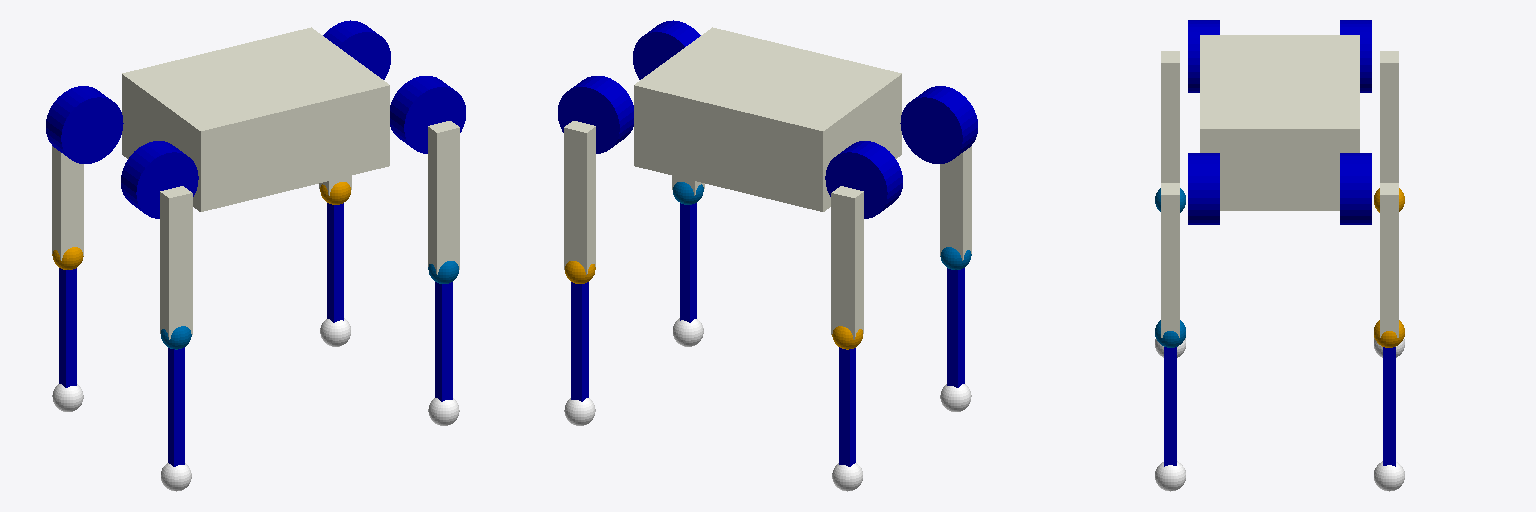
--- What the picture shows (computed from the rendered views, not written in the file) ---
The picture shows the robot from 3 angles, left to right: view 1: azimuth 30°, elevation 25°; view 2: azimuth 150°, elevation 25°; view 3: azimuth 270°, elevation 25°; orthographic projection.
Robot: wr2 — 19 links, 18 joints (12 revolute, 6 fixed); root link base; default pose: every joint at zero.
Visible links, largest first — view 1: trunk, RR_thigh, FR_thigh, RL_hip, RR_hip, FR_hip, RL_thigh, FL_hip, RL_calf, FR_calf, FL_calf, RR_calf (+5 smaller); view 2: trunk, RL_thigh, FL_thigh, RR_hip, RL_hip, FL_hip, RR_thigh, FR_hip, RR_calf, FL_calf, FR_calf, RL_calf (+5 smaller); view 3: trunk, FR_thigh, FL_thigh, RR_thigh, RL_thigh, FR_hip, FL_hip, FR_calf, FL_calf, RR_hip, RL_hip, FR_foot (+1 smaller).
Boxes of the visible links, x1,y1,x2,y2 form: trunk: [122, 27, 389, 211]; RR_thigh: [160, 186, 192, 349]; FR_thigh: [428, 121, 459, 283]; RL_hip: [46, 86, 123, 163]; RR_hip: [121, 141, 198, 218]; FR_hip: [390, 76, 465, 153]; RL_thigh: [52, 146, 83, 269]; FL_hip: [323, 20, 390, 79]; RL_calf: [59, 268, 76, 387]; FR_calf: [435, 282, 452, 401]; FL_calf: [327, 203, 343, 322]; RR_calf: [168, 347, 184, 466]; trunk: [634, 27, 901, 211]; RL_thigh: [831, 186, 863, 349]; FL_thigh: [564, 121, 595, 283]; RR_hip: [900, 86, 977, 163]; RL_hip: [825, 141, 902, 218]; FL_hip: [558, 76, 633, 153]; RR_thigh: [940, 146, 971, 269]; FR_hip: [633, 20, 700, 79]; RR_calf: [947, 268, 964, 387]; FL_calf: [571, 282, 588, 401]; FR_calf: [680, 203, 696, 322]; RL_calf: [839, 347, 855, 466]; trunk: [1200, 35, 1359, 210]; FR_thigh: [1155, 183, 1185, 347]; FL_thigh: [1374, 183, 1404, 347]; RR_thigh: [1155, 51, 1185, 212]; RL_thigh: [1374, 51, 1404, 212]; FR_hip: [1188, 153, 1219, 224]; FL_hip: [1340, 153, 1371, 224]; FR_calf: [1164, 347, 1176, 466]; FL_calf: [1383, 347, 1395, 466]; RR_hip: [1188, 20, 1219, 92]; RL_hip: [1340, 20, 1371, 92]; FR_foot: [1155, 461, 1185, 491].
Size in the robot's own frame: 0.487 by 0.3164 by 0.477 metres.
Geometry: primitives only (box / cylinder / sphere), no mesh files.

robot.urdf — wr2:
<?xml version="1.0" encoding="utf-8"?>
<!-- =================================================================================== -->
<!-- |    This document was autogenerated by xacro from xacro/robot.xacro              | -->
<!-- |    EDITING THIS FILE BY HAND IS NOT RECOMMENDED                                 | -->
<!-- =================================================================================== -->
<robot name="wr2">
  <material name="black">
    <color rgba="0.0 0.0 0.0 1.0"/>
  </material>
  <material name="blue">
    <color rgba="0.0 0.0 0.8 1.0"/>
  </material>
  <material name="green">
    <color rgba="0.0 0.8 0.0 1.0"/>
  </material>
  <material name="grey">
    <color rgba="0.2 0.2 0.2 1.0"/>
  </material>
  <material name="silver">
    <color rgba="0.913725490196 0.913725490196 0.847058823529 1.0"/>
  </material>
  <material name="orange">
    <color rgba="1.0 0.423529411765 0.0392156862745 1.0"/>
  </material>
  <material name="brown">
    <color rgba="0.870588235294 0.811764705882 0.764705882353 1.0"/>
  </material>
  <material name="red">
    <color rgba="0.8 0.0 0.0 1.0"/>
  </material>
  <material name="white">
    <color rgba="1.0 1.0 1.0 1.0"/>
  </material>
 
  <link name="base">
    <visual>
      <origin rpy="0 0 0" xyz="0 0 0"/>
      <geometry>
        <box size="0.001 0.001 0.001"/>
      </geometry>
    </visual>
  </link>
  <joint name="floating_base" type="fixed">
    <origin rpy="0 0 0" xyz="0 0 0"/>
    <parent link="base"/>
    <child link="trunk"/>
  </joint>
  <link name="trunk">
    <visual name="body_visual">
      <origin rpy="0 0 0" xyz="0 0 0"/>
      <geometry>
        <!-- <mesh filename="meshes/base_link.STL" scale="1 1 1"/> -->
        <box size="0.28 0.202 0.114"/>
      </geometry>
      <material name="silver"/>
    </visual>
    <collision name="body_collision">
      <origin rpy="0 0 0" xyz="0 0 0"/>
      <geometry>
        <!-- <mesh filename="meshes/base_link.STL" scale="1 1 1"/> -->
        <box size="0.28 0.202 0.114"/>
      </geometry>
    </collision>
    <inertial>
      <origin rpy="0 0 0" xyz="0.00067578 -0.00016652 -0.00017278"/>
      <mass value="4.9532"/>
      <inertia ixx="0.0097737" ixy="1.6081e-06" ixz="6.1042e-06" iyy="0.011213" iyz="2.3576e-05" izz="0.016784"/>
    </inertial>
  </link>
 
  <!-- <link name="base">
    <visual>
      <origin rpy="0 0 0" xyz="0 0 0"/>
      <geometry>
        <box size="0.001 0.001 0.001"/>
      </geometry>
    </visual>
    <inertial>
      <origin rpy="0 0 0" xyz="0.00067578 -0.00016652 -0.00017278"/>
      <mass value="4.9532"/>
      <inertia ixx="0.0097737" ixy="1.6081e-06" ixz="6.1042e-06" iyy="0.011213" iyz="2.3576e-05" izz="0.016784"/>
    </inertial>
  </link>
  <joint name="floating_base" type="fixed">
    <origin rpy="0 0 0" xyz="0 0 0"/>
    <parent link="base"/>
    <child link="trunk"/>
  </joint>
  <link name="trunk">
    <visual name="body_visual">
      <origin rpy="0 0 0" xyz="0 0 0"/>
      <geometry>
        <mesh filename="meshes/base_link.STL" scale="1 1 1"/>
      </geometry>
      <material name="silver"/>
      <origin rpy="0 0 0" xyz="0 0 0"/>
      <geometry>
        <box size="0.28 0.202 0.114"/>
      </geometry>
    </visual>
    <collision name="body_collision">
      <origin rpy="0 0 0" xyz="0 0 0"/>
      <geometry>
        <box size="0.28 0.202 0.114"/>
      </geometry>
    </collision>
  </link> -->
  <joint name="imu_joint" type="fixed">
    <parent link="trunk"/>
    <child link="imu_link"/>
    <origin rpy="0 0 0" xyz="0 0 0"/>
  </joint>
  <link name="imu_link">
    <inertial>
      <mass value="0.001"/>
      <origin rpy="0 0 0" xyz="0 0 0"/>
      <inertia ixx="0.0001" ixy="0" ixz="0" iyy="0.0001" iyz="0" izz="0.0001"/>
    </inertial>
    <visual>
      <origin rpy="0 0 0" xyz="0 0 0"/>
      <geometry>
        <box size="0.001 0.001 0.001"/>
      </geometry>
      <material name="red"/>
    </visual>
    <collision>
      <origin rpy="0 0 0" xyz="0 0 0"/>
      <geometry>
        <box size=".001 .001 .001"/>
      </geometry>
    </collision>
  </link>

  <joint name="FR_hip_joint" type="revolute">
    <origin rpy="0 0 0" xyz="0.1975 -0.05 0"/>
    <parent link="trunk"/>
    <child link="FR_hip"/>
    <axis xyz="1 0 0"/>
    <dynamics damping="0" friction="0"/>
    <limit effort="33.5" lower="-0.785398163397" upper="0.785398163397" velocity="21"/>
  </joint>
  <!-- <link name="FR_hip">
      <inertial>
          <mass value="0.54"/>
          <origin xyz="0.0 0.036 0."/>
          <inertia ixx="0.000381" ixy="0.000058" ixz="0.00000045" 
              iyy="0.000560" iyz="0.00000095" izz="0.000444"/>
      </inertial>
      <visual>
          <geometry>
              <mesh filename="meshes/mini_abad.obj"/>
          </geometry>
          <origin rpy="3.141592 0.0 1.5708" xyz="-0.055 0.0 0.0"/>
      </visual>
      <collision>
          <geometry>
              <mesh filename="meshes/mini_abad.obj"/>
          </geometry>
          <origin rpy="3.141592 0 1.5708" xyz="-0.055 0 0"/>
      </collision>
  </link> -->

  <!-- <link name="FR_hip">
    <visual>
      <origin rpy="1.57079632679 0 0" xyz="0 -0.045 0"/>
      <geometry>
        <cylinder length="0.04" radius="0.046"/>
      </geometry>
      <material name="silver"/>
    </visual>
    <collision>
      <origin rpy="1.57079632679 0 0" xyz="0 -0.045 0"/>
      <geometry>
        <cylinder length="0.04" radius="0.046"/>
      </geometry>
    </collision>
    <inertial>
      <origin rpy="0 0 0" xyz="-0.00541 0.00074 6e-06"/>
      <mass value="0.510299"/>
      <inertia ixx="0.00030528937" ixy="7.788013e-06" ixz="2.2016e-07" iyy="0.000590894859" iyz="1.7175e-08" izz="0.000396594572"/>
    </inertial>
  </link> -->

  <link name="FR_hip">
    <visual name="hip2_visual">
      <!-- <origin rpy="3.14159265359 0 0" xyz="0 0 0"/>
      <geometry>
        <mesh filename="meshes/hip1_Link.STL" scale="1 1 1"/>
      </geometry> -->
      <origin rpy="1.57079632679 0 0" xyz="0 -0.046 0"/>
      <geometry>
        <cylinder length="0.04" radius="0.046"/>
      </geometry>
      <material name="blue"/>
    </visual>
    <collision name="hip2_collision">
      <origin rpy="1.57079632679 0 0" xyz="0 -0.046 0"/>
      <geometry>
        <cylinder length="0.04" radius="0.046"/>
      </geometry>
    </collision>
    <inertial>
      <mass value="0.54"/>
      <origin xyz="0.0 0.036 0."/>
      <inertia ixx="0.000381" ixy="0.000058" ixz="0.00000045" 
          iyy="0.000560" iyz="0.00000095" izz="0.000444"/>
      <origin rpy="0 0 0" xyz="-0.0032616 -0.0049715 0.00038471"/>
      <mass value="0.74362"/>
      <inertia ixx="0.00045939" ixy="1.5543e-05" ixz="6.1403e-07" iyy="0.00075207" iyz="-8.2076e-07" izz="0.00049182"/>
    </inertial>
  </link>
  <joint name="FR_thigh_joint" type="revolute">
    <origin rpy="0 0 0" xyz="0 -0.0882 0"/>
    <parent link="FR_hip"/>
    <child link="FR_thigh"/>
    <axis xyz="0 -1 0"/>
    <dynamics damping="0" friction="0"/>
    <limit effort="33.5" lower="-6.28318530718" upper="6.28318530718" velocity="21"/>
  </joint>
  <link name="FR_thigh">
    <visual name="upper2_visual">
      <!-- <origin rpy="0 0 0" xyz="0 0 0"/>
      <geometry>
        <mesh filename="meshes/upper0_Link.STL" scale="1 1 1"/>
      </geometry> -->
      <origin rpy="0 1.57079632679 0" xyz="0 0 -0.1"/>
      <geometry>
        <box size="0.2 0.0245 0.034"/>
      </geometry>
      <material name="silver"/>
    </visual>
    <collision name="upper2_collision">
      <origin rpy="0 1.57079632679 0" xyz="0 0 -0.1"/>
      <geometry>
        <box size="0.2 0.0245 0.034"/>
      </geometry>
    </collision>
    <visual>
        <origin xyz="0 0 -0.2"/>
        <geometry>
            <sphere radius="0.02"/>
        </geometry>
    </visual>
    <collision>
        <origin xyz="0 0 -0.2"/>
        <geometry>
            <sphere radius="0.02"/>
        </geometry>
    </collision>
    <inertial>
      <origin rpy="0 0 0" xyz="-0.0029302 0.022321 -0.020612"/>
      <mass value="0.88958"/>
      <inertia ixx="0.0016427" ixy="-1.0138e-06" ixz="-8.5809e-05" iyy="0.0019549" iyz="-1.1651e-06" izz="0.00049228"/>
    </inertial>
  </link>
  <joint name="FR_calf_joint" type="revolute">
    <origin rpy="0 0 0" xyz="0 0 -0.2"/>
    <parent link="FR_thigh"/>
    <child link="FR_calf"/>
    <axis xyz="0 -1 0"/>
    <dynamics damping="0" friction="0"/>
    <limit effort="33.5" lower="-6.28318530718" upper="6.28318530718" velocity="21"/>
  </joint>
  <link name="FR_calf">
    <visual name="lower2_visual">
      <!-- <origin rpy="0 0 0" xyz="0 0 0"/>
      <geometry>
        <mesh filename="meshes/lower1_Link.STL" scale="1 1 1"/>
      </geometry> -->
      <origin rpy="0 1.57079632679 0" xyz="0 0 -0.1"/>
      <geometry>
        <box size="0.2 0.016 0.016"/>
      </geometry>
      <material name="blue"/>
    </visual>
    <collision name="lower2_collision">
      <origin rpy="0 1.57079632679 0" xyz="0 0 -0.1"/>
      <geometry>
        <box size="0.2 0.016 0.016"/>
      </geometry>
    </collision>
    <!-- <visual>
        <origin xyz="0 0 -0.2"/>
        <geometry>
            <sphere radius="0.02"/>
        </geometry>
    </visual>
    <collision>
        <origin xyz="0 0 -0.2"/>
        <geometry>
            <sphere radius="0.02"/>
        </geometry>
    </collision> -->
    <inertial>
      <origin rpy="0 0 0" xyz="0.0065828 -3.477e-05 -0.059038"/>
      <mass value="0.1193"/>
      <inertia ixx="0.00033774" ixy="-1.6102e-10" ixz="4.2063e-05" iyy="0.00034623" iyz="-3.8747e-09" izz="1.4561e-05"/>
    </inertial>
  </link>

  <joint name="FR_foot_fixed" type="fixed" dont_collapse="true">
    <origin rpy="0 0 0" xyz="0 0 -0.2"/>
    <parent link="FR_calf"/>
    <child link="FR_foot"/>
  </joint>
  <link name="FR_foot">
    <visual>
      <origin rpy="0 0 0" xyz="0 0 0"/>
      <geometry>
        <sphere radius="0.02"/>
      </geometry>
      <material name="white"/>
    </visual>
    <collision>
      <origin rpy="0 0 0" xyz="0 0 0"/>
      <geometry>
        <sphere radius="0.02"/>
      </geometry>
    </collision>
    <inertial>
      <mass value="0.06"/>
      <inertia ixx="9.6e-06" ixy="0.0" ixz="0.0" iyy="9.6e-06" iyz="0.0" izz="9.6e-06"/>
    </inertial>
  </link>


  <joint name="FL_hip_joint" type="revolute">
    <origin rpy="0 0 0" xyz="0.1975 0.05 0"/>
    <parent link="trunk"/>
    <child link="FL_hip"/>
    <axis xyz="1 0 0"/>
    <dynamics damping="0" friction="0"/>
    <limit effort="33.5" lower="-0.785398163397" upper="0.785398163397" velocity="21"/>
  </joint>
  <!-- <link name="FL_hip">
      <inertial>
          <mass value="0.54"/>
          <origin xyz="0.0 0.036 0."/>
          <inertia ixx="0.000381" ixy="0.000058" ixz="0.00000045" 
              iyy="0.000560" iyz="0.00000095" izz="0.000444"/>
      </inertial>
      <visual>
          <geometry>
              <mesh filename="meshes/mini_abad.obj"/>
          </geometry>
          <origin rpy="0. 0. -1.5708" xyz="-0.055 0.0 0.0"/>
      </visual>
      <collision>
          <geometry>
              <mesh filename="meshes/mini_abad.obj"/>
          </geometry>
          <origin rpy="0 0 -1.5708" xyz="-0.055 0 0"/>
      </collision>
  </link> -->
  <link name="FL_hip">
    <visual name="hip0_visual">
      <!-- <origin rpy="0 0 0" xyz="0 0 0"/>
      <geometry>
        <mesh filename="meshes/hip1_Link.STL" scale="1 1 1"/>
      </geometry> -->
      <origin rpy="1.57079632679 0 0" xyz="0 0.046 0"/>
      <geometry>
        <cylinder length="0.04" radius="0.046"/>
      </geometry>
      <material name="blue"/>
    </visual>
    <collision name="hip0_collision">
      <origin rpy="1.57079632679 0 0" xyz="0 0.046 0"/>
      <geometry>
        <cylinder length="0.04" radius="0.046"/>
      </geometry>
    </collision>
    <inertial>
      <origin rpy="0 0 0" xyz="-0.0032616 0.0049715 0.00038471"/>
      <mass value="0.74362"/>
      <inertia ixx="0.00045939" ixy="-1.5543e-05" ixz="6.1403e-07" iyy="0.00075207" iyz="8.2076e-07" izz="0.00049182"/>
    </inertial>
  </link>

  <!-- <link name="FL_hip">
    <visual>
      <origin rpy="1.57079632679 0 0" xyz="0 0.045 0"/>
      <geometry>
        <cylinder length="0.04" radius="0.046"/>
      </geometry>
      <material name="silver"/>
    </visual>
    <collision>
      <origin rpy="1.57079632679 0 0" xyz="0 0.046 0"/>
      <geometry>
        <cylinder length="0.04" radius="0.046"/>
      </geometry>
    </collision>
    <inertial>
      <origin rpy="0 0 0" xyz="-0.00541 -0.00074 6e-06"/>
      <mass value="0.510299"/>
      <inertia ixx="0.00030528937" ixy="-7.788013e-06" ixz="2.2016e-07" iyy="0.000590894859" iyz="-1.7175e-08" izz="0.000396594572"/>
    </inertial>
  </link> -->

  <joint name="FL_thigh_joint" type="revolute">
    <origin rpy="0 0 0" xyz="0 0.0882 0"/>
    <parent link="FL_hip"/>
    <child link="FL_thigh"/>
    <axis xyz="0 -1 0"/>
    <dynamics damping="0" friction="0"/>
    <limit effort="33.5" lower="-6.28318530718" upper="6.28318530718" velocity="21"/>
  </joint>
  <link name="FL_thigh">
    <visual name="upper0_visual">
      <!-- <origin rpy="0 0 0" xyz="0 0 0"/>
      <geometry>
        <mesh filename="meshes/upper1_Link.STL" scale="1 1 1"/>
      </geometry> -->
      <origin rpy="0 1.57079632679 0" xyz="0 0 -0.1"/>
      <geometry>
        <box size="0.2 0.0245 0.034"/>
      </geometry>
      <material name="silver"/>
    </visual>
    <collision name="upper0_collision">
      <origin rpy="0 1.57079632679 0" xyz="0 0 -0.1"/>
      <geometry>
        <box size="0.2 0.0245 0.034"/>
      </geometry>
    </collision>
    <visual>
        <origin xyz="0 0 -0.2"/>
        <geometry>
            <sphere radius="0.02"/>
        </geometry>
    </visual>
    <collision>
        <origin xyz="0 0 -0.2"/>
        <geometry>
            <sphere radius="0.02"/>
        </geometry>
    </collision>
    <inertial>
      <origin rpy="0 0 0" xyz="-0.0029302 -0.022321 -0.020612"/>
      <mass value="0.88958"/>
      <inertia ixx="0.0016427" ixy="1.0138e-06" ixz="-8.5809e-05" iyy="0.0019549" iyz="1.1651e-06" izz="0.00049228"/>
    </inertial>
  </link>
  <joint name="FL_calf_joint" type="revolute">
    <origin rpy="0 0 0" xyz="0 0 -0.2"/>
    <parent link="FL_thigh"/>
    <child link="FL_calf"/>
    <axis xyz="0 -1 0"/>
    <dynamics damping="0" friction="0"/>
    <limit effort="33.5" lower="-6.28318530718" upper="6.28318530718" velocity="21"/>
  </joint>
  <link name="FL_calf">
    <visual name="lower0_visual">
      <!-- <origin rpy="0 0 0" xyz="0 0 0"/>
      <geometry>
        <mesh filename="meshes/lower1_Link.STL" scale="1 1 1"/>
      </geometry> -->
      <origin rpy="0 1.57079632679 0" xyz="0 0 -0.1"/>
      <geometry>
        <box size="0.2 0.016 0.016"/>
      </geometry>
      <material name="blue"/>
    </visual>
    <collision name="lower0_collision">
      <origin rpy="0 1.57079632679 0" xyz="0 0 -0.1"/>
      <geometry>
        <box size="0.2 0.016 0.016"/>
      </geometry>
    </collision>
    <!-- <visual>
        <origin xyz="0 0 -0.2"/>
        <geometry>
            <sphere radius="0.02"/>
        </geometry>
    </visual>
    <collision>
        <origin xyz="0 0 -0.2"/>
        <geometry>
            <sphere radius="0.02"/>
        </geometry>
    </collision> -->
    <inertial>
      <origin rpy="0 0 0" xyz="0.0065828 -3.477e-05 -0.059038"/>
      <mass value="0.1193"/>
      <inertia ixx="0.00033774" ixy="-1.6102e-10" ixz="4.2063e-05" iyy="0.00034623" iyz="-3.8747e-09" izz="1.4561e-05"/>
    </inertial>
  </link>
  <joint name="FL_foot_fixed" type="fixed" dont_collapse="true">
    <origin rpy="0 0 0" xyz="0 0 -0.2"/>
    <parent link="FL_calf"/>
    <child link="FL_foot"/>
  </joint>
  <link name="FL_foot">
    <visual>
      <origin rpy="0 0 0" xyz="0 0 0"/>
      <geometry>
        <sphere radius="0.02"/>
      </geometry>
      <material name="white"/>
    </visual>
    <collision>
      <origin rpy="0 0 0" xyz="0 0 0"/>
      <geometry>
        <sphere radius="0.02"/>
      </geometry>
    </collision>
    <inertial>
      <mass value="0.06"/>
      <inertia ixx="9.6e-06" ixy="0.0" ixz="0.0" iyy="9.6e-06" iyz="0.0" izz="9.6e-06"/>
    </inertial>
  </link>

  
  <joint name="RR_hip_joint" type="revolute">
    <origin rpy="0 0 0" xyz="-0.1975 -0.05 0"/>
    <parent link="trunk"/>
    <child link="RR_hip"/>
    <axis xyz="1 0 0"/>
    <dynamics damping="0.5" friction="0"/>
    <limit effort="33.5" lower="-0.785398163397" upper="0.785398163397" velocity="21"/>
    <!-- <limit effort="18" lower="-1.6" upper="1.6" velocity="40"/> -->
  </joint>
  <!-- <link name="RR_hip">
      <inertial>
          <mass value="0.54"/>
          <origin xyz="0.0 0.036 0."/>
          <inertia ixx="0.000381" ixy="0.000058" ixz="0.00000045" 
              iyy="0.000560" iyz="0.00000095" izz="0.000444"/>
      </inertial>
      <visual>
          <geometry>
              <mesh filename="meshes/mini_abad.obj"/>
          </geometry>
          <origin rpy="0.0 0.0 1.5708" xyz="0.055 0.0 0.0"/>
      </visual>
      <collision>
          <geometry>
              <mesh filename="meshes/mini_abad.obj"/>
          </geometry>
          <origin rpy="0 0 1.5708" xyz="0.055 0 0"/>
      </collision>
  </link> -->
  <link name="RR_hip">
    <visual name="hip3_visual">
      <!-- <origin rpy="3.14159265359 3.14159265359 0" xyz="0 0 0"/>
      <geometry>
        <mesh filename="meshes/hip1_Link.STL" scale="1 1 1"/>
      </geometry> -->
      <origin rpy="1.57079632679 0 0" xyz="0 -0.046 0"/>
      <geometry>
        <cylinder length="0.04" radius="0.046"/>
      </geometry>
      <material name="blue"/>
    </visual>
    <collision name="hip3_collision">
      <origin rpy="1.57079632679 0 0" xyz="0 -0.046 0"/>
      <geometry>
        <cylinder length="0.04" radius="0.046"/>
      </geometry>
    </collision>
    <inertial>
      <origin rpy="0 0 0" xyz="0.0032616 -0.0049715 0.00038471"/>
      <mass value="0.74362"/>
      <inertia ixx="0.00045939" ixy="-1.5543e-05" ixz="-6.1403e-07" iyy="0.00075207" iyz="-8.2076e-07" izz="0.00049182"/>
    </inertial>
  </link>

  <!-- <link name="RR_hip">
    <visual>
      <origin rpy="1.57079632679 0 0" xyz="0 -0.045 0"/>
      <geometry>
        <cylinder length="0.04" radius="0.046"/>
      </geometry>
      <material name="silver"/>
    </visual>
    <collision>
      <origin rpy="1.57079632679 0 0" xyz="0 -0.045 0"/>
      <geometry>
        <cylinder length="0.04" radius="0.046"/>
      </geometry>
    </collision>
    <inertial>
      <origin rpy="0 0 0" xyz="0.00541 0.00074 6e-06"/>
      <mass value="0.510299"/>
      <inertia ixx="0.00030528937" ixy="-7.788013e-06" ixz="-2.2016e-07" iyy="0.000590894859" iyz="1.7175e-08" izz="0.000396594572"/>
    </inertial>
  </link> -->

  <joint name="RR_thigh_joint" type="revolute">
    <origin rpy="0 0 0" xyz="0 -0.0882 0"/>
    <parent link="RR_hip"/>
    <child link="RR_thigh"/>
    <axis xyz="0 -1 0"/>
    <dynamics damping="0" friction="0"/>
    <limit effort="33.5" lower="-6.28318530718" upper="6.28318530718" velocity="21"/>
  </joint>
  <link name="RR_thigh">
    <visual name="upper3_visual">
      <!-- <origin rpy="0 0 0" xyz="0 0 0"/>
      <geometry>
        <mesh filename="meshes/upper0_Link.STL" scale="1 1 1"/>
      </geometry> -->
      <origin rpy="0 1.57079632679 0" xyz="0 0 -0.1"/>
      <geometry>
        <box size="0.2 0.0245 0.034"/>
      </geometry>
      <material name="silver"/>
    </visual>
    <collision name="upper3_collision">
      <origin rpy="0 1.57079632679 0" xyz="0 0 -0.1"/>
      <geometry>
        <box size="0.2 0.0245 0.034"/>
      </geometry>
    </collision>
    <visual>
        <origin xyz="0 0 -0.2"/>
        <geometry>
            <sphere radius="0.02"/>
        </geometry>
    </visual>
    <collision>
        <origin xyz="0 0 -0.2"/>
        <geometry>
            <sphere radius="0.02"/>
        </geometry>
    </collision>
    <inertial>
      <origin rpy="0 0 0" xyz="-0.0029302 0.022321 -0.020612"/>
      <mass value="0.88958"/>
      <inertia ixx="0.0016427" ixy="-1.0138e-06" ixz="-8.5809e-05" iyy="0.0019549" iyz="-1.1651e-06" izz="0.00049228"/>
    </inertial>
  </link>
  <joint name="RR_calf_joint" type="revolute">
    <origin rpy="0 0 0" xyz="0 0 -0.2"/>
    <parent link="RR_thigh"/>
    <child link="RR_calf"/>
    <axis xyz="0 -1 0"/>
    <dynamics damping="0" friction="0"/>
    <limit effort="33.5" lower="-6.28318530718" upper="6.28318530718" velocity="21"/>
  </joint>
  <link name="RR_calf">
    <visual name="lower3_visual">
      <!-- <origin rpy="0 0 0" xyz="0 0 0"/>
      <geometry>
        <mesh filename="meshes/lower1_Link.STL" scale="1 1 1"/>
      </geometry> -->
      <origin rpy="0 1.57079632679 0" xyz="0 0 -0.1"/>
      <geometry>
        <box size="0.2 0.016 0.016"/>
      </geometry>
      
      <material name="blue"/>
    </visual>
    <!-- <visual>
      <origin xyz="0 0 -0.2"/>
      <geometry>
          <sphere radius="0.02"/>
      </geometry>
    </visual> -->
    <collision name="lower3_collision">
      <origin rpy="0 1.57079632679 0" xyz="0 0 -0.1"/>
      <geometry>
        <box size="0.2 0.016 0.016"/>
      </geometry>
    </collision>
    <!-- <collision>
        <origin xyz="0 0 -0.2"/>
        <geometry>
            <sphere radius="0.02"/>
        </geometry>
    </collision> -->
    <inertial>
      <origin rpy="0 0 0" xyz="0.0065828 -3.477e-05 -0.059038"/>
      <mass value="0.1193"/>
      <inertia ixx="0.00033774" ixy="-1.6102e-10" ixz="4.2063e-05" iyy="0.00034623" iyz="-3.8747e-09" izz="1.4561e-05"/>
    </inertial>
  </link>
  <joint name="RR_foot_fixed" type="fixed" dont_collapse="true">
    <origin rpy="0 0 0" xyz="0 0 -0.2"/>
    <parent link="RR_calf"/>
    <child link="RR_foot"/>
  </joint>
  <link name="RR_foot">
    <visual>
      <origin rpy="0 0 0" xyz="0 0 0"/>
      <geometry>
        <sphere radius="0.02"/>
      </geometry>
      <material name="white"/>
    </visual>
    <collision>
      <origin rpy="0 0 0" xyz="0 0 0"/>
      <geometry>
        <sphere radius="0.02"/>
      </geometry>
    </collision>
    <inertial>
      <mass value="0.06"/>
      <inertia ixx="9.6e-06" ixy="0.0" ixz="0.0" iyy="9.6e-06" iyz="0.0" izz="9.6e-06"/>
    </inertial>
  </link>

  <joint name="RL_hip_joint" type="revolute">
    <origin rpy="0 0 0" xyz="-0.1975 0.05 0"/>
    <parent link="trunk"/>
    <child link="RL_hip"/>
    <axis xyz="1 0 0"/>
    <dynamics damping="0" friction="0"/>
    <limit effort="33.5" lower="-0.785398163397" upper="0.785398163397" velocity="21"/>
  </joint>
  <!-- <link name="RL_hip">
      <inertial>
          <mass value="0.54"/>
          <origin xyz="0.0 0.036 0."/>
          <inertia ixx="0.000381" ixy="0.000058" ixz="0.00000045" 
              iyy="0.000560" iyz="0.00000095" izz="0.000444"/>
      </inertial>
      <visual>
          <geometry>
              <mesh filename="meshes/mini_abad.obj"/>
          </geometry>
          <origin rpy="3.141592 0.0 -1.5708" xyz="0.055 0.0 0.0"/>
      </visual>
      <collision>
          <geometry>
              <mesh filename="meshes/mini_abad.obj"/>
          </geometry>
          <origin rpy="3.141592 0 -1.5708" xyz="0.055 0 0"/>
      </collision>
  </link> -->
  <link name="RL_hip">
    <visual name="hip1_visual">
      <!-- <origin rpy="0 3.14159265359 0" xyz="0 0 0"/>
      <geometry>
        <mesh filename="meshes/hip1_Link.STL" scale="1 1 1"/>
      </geometry> -->
      <origin rpy="1.57079632679 0 0" xyz="0 0.046 0"/>
      <geometry>
        <cylinder length="0.04" radius="0.046"/>
      </geometry>
      <material name="blue"/>
    </visual>
    <collision name="hip1_collision">
      <origin rpy="1.57079632679 0 0" xyz="0 0.046 0"/>
      <geometry>
        <cylinder length="0.04" radius="0.046"/>
      </geometry>
    </collision>
    <inertial>
      <origin rpy="0 0 0" xyz="0.0032616 0.0049715 0.00038471"/>
      <mass value="0.74362"/>
      <inertia ixx="0.00045939" ixy="1.5543e-05" ixz="-6.1403e-07" iyy="0.00075207" iyz="8.2076e-07" izz="0.00049182"/>
    </inertial>
  </link>

  <!-- <link name="RL_hip">
    <visual>
      <origin rpy="1.57079632679 0 0" xyz="0 0.045 0"/>
      <geometry>
        <cylinder length="0.04" radius="0.046"/>
      </geometry>
      <material name="silver"/>
    </visual>
    <collision>
      <origin rpy="1.57079632679 0 0" xyz="0 0.045 0"/>
      <geometry>
        <cylinder length="0.04" radius="0.046"/>
      </geometry>
    </collision>
    <inertial>
      <origin rpy="0 0 0" xyz="0.00541 -0.00074 6e-06"/>
      <mass value="0.510299"/>
      <inertia ixx="0.00030528937" ixy="7.788013e-06" ixz="-2.2016e-07" iyy="0.000590894859" iyz="-1.7175e-08" izz="0.000396594572"/>
    </inertial>
  </link> -->


  <joint name="RL_thigh_joint" type="revolute">
    <origin rpy="0 0 0" xyz="0 0.0882 0"/>
    <parent link="RL_hip"/>
    <child link="RL_thigh"/>
    <axis xyz="0 -1 0"/>
    <dynamics damping="0" friction="0"/>
    <limit effort="33.5" lower="-6.28318530718" upper="6.28318530718" velocity="21"/>
  </joint>
  <link name="RL_thigh">
    <visual name="upper1_visual">
      <!-- <origin rpy="0 0 0" xyz="0 0 0"/>
      <geometry>
        <mesh filename="meshes/upper1_Link.STL" scale="1 1 1"/>
      </geometry> -->
      <origin rpy="0 1.57079632679 0" xyz="0 0 -0.1"/>
      <geometry>
        <box size="0.2 0.0245 0.034"/>
      </geometry>
      <material name="silver"/>
    </visual>
    <collision name="upper1_collision">
      <origin rpy="0 1.57079632679 0" xyz="0 0 -0.1"/>
      <geometry>
        <box size="0.2 0.0245 0.034"/>
      </geometry>
    </collision>
    <visual>
        <origin xyz="0 0 -0.2"/>
        <geometry>
            <sphere radius="0.02"/>
        </geometry>
    </visual>
    <collision>
        <origin xyz="0 0 -0.2"/>
        <geometry>
            <sphere radius="0.02"/>
        </geometry>
    </collision>
    <inertial>
      <origin rpy="0 0 0" xyz="-0.0029302 -0.022321 -0.020612"/>
      <mass value="0.88958"/>
      <inertia ixx="0.0016427" ixy="1.0138e-06" ixz="-8.5809e-05" iyy="0.0019549" iyz="1.1651e-06" izz="0.00049228"/>
    </inertial>
  </link>
  <joint name="RL_calf_joint" type="revolute">
    <origin rpy="0 0 0" xyz="0 0 -0.2"/>
    <parent link="RL_thigh"/>
    <child link="RL_calf"/>
    <axis xyz="0 -1 0"/>
    <dynamics damping="0" friction="0"/>
    <limit effort="33.5" lower="-6.28318530718" upper="6.28318530718" velocity="21"/>
  </joint>
  <link name="RL_calf">
    <visual name="lower1_visual">
      <!-- <origin rpy="0 0 0" xyz="0 0 0"/>
      <geometry>
        <mesh filename="meshes/lower1_Link.STL" scale="1 1 1"/>
      </geometry> -->
      <origin rpy="0 1.57079632679 0" xyz="0 0 -0.1"/>
      <geometry>
        <box size="0.2 0.016 0.016"/>
      </geometry>
      <material name="blue"/>
    </visual>
    <!-- <visual>
        <origin xyz="0 0 -0.2"/>
        <geometry>
            <sphere radius="0.02"/>
        </geometry>
    </visual> -->
    <collision name="lower1_collision">
      <origin rpy="0 1.57079632679 0" xyz="0 0 -0.1"/>
      <geometry>
        <box size="0.2 0.016 0.016"/>
      </geometry>
    </collision>
    <!-- <collision>
        <origin xyz="0 0 -0.2"/>
        <geometry>
            <sphere radius="0.02"/>
        </geometry>
    </collision> -->
    <inertial>
      <origin rpy="0 0 0" xyz="0.0065828 -3.477e-05 -0.059038"/>
      <mass value="0.1193"/>
      <inertia ixx="0.00033774" ixy="-1.6102e-10" ixz="4.2063e-05" iyy="0.00034623" iyz="-3.8747e-09" izz="1.4561e-05"/>
    </inertial>
  </link>
  <joint name="RL_foot_fixed" type="fixed" dont_collapse="true">
    <origin rpy="0 0 0" xyz="0 0 -0.2"/>
    <parent link="RL_calf"/>
    <child link="RL_foot"/>
  </joint>
  <link name="RL_foot">
    <visual>
      <origin rpy="0 0 0" xyz="0 0 0"/>
      <geometry>
        <sphere radius="0.02"/>
      </geometry>
      <material name="white"/>
    </visual>
    <collision>
      <origin rpy="0 0 0" xyz="0 0 0"/>
      <geometry>
        <sphere radius="0.02"/>
      </geometry>
    </collision>
    <inertial>
      <mass value="0.06"/>
      <inertia ixx="9.6e-06" ixy="0.0" ixz="0.0" iyy="9.6e-06" iyz="0.0" izz="9.6e-06"/>
    </inertial>
  </link>
  
</robot>
